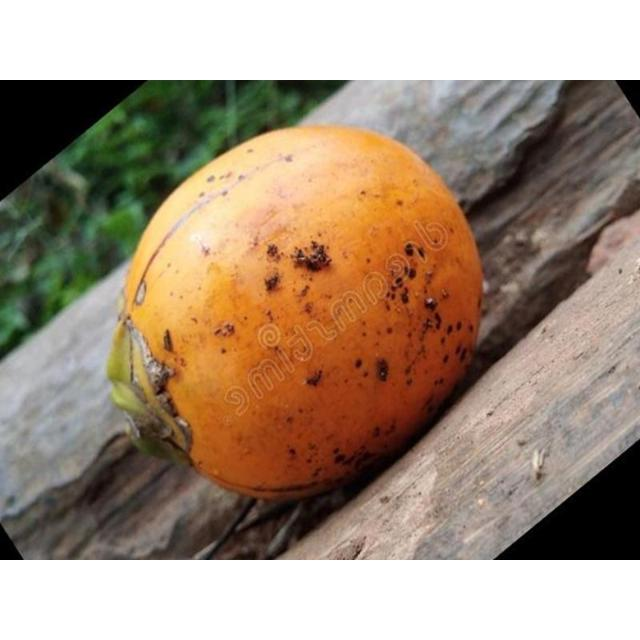good: (103, 126, 484, 505)
